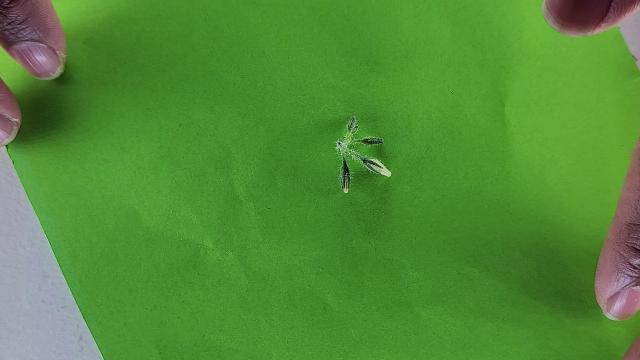Flower Bud: (360, 155, 392, 177), (339, 156, 350, 193)
